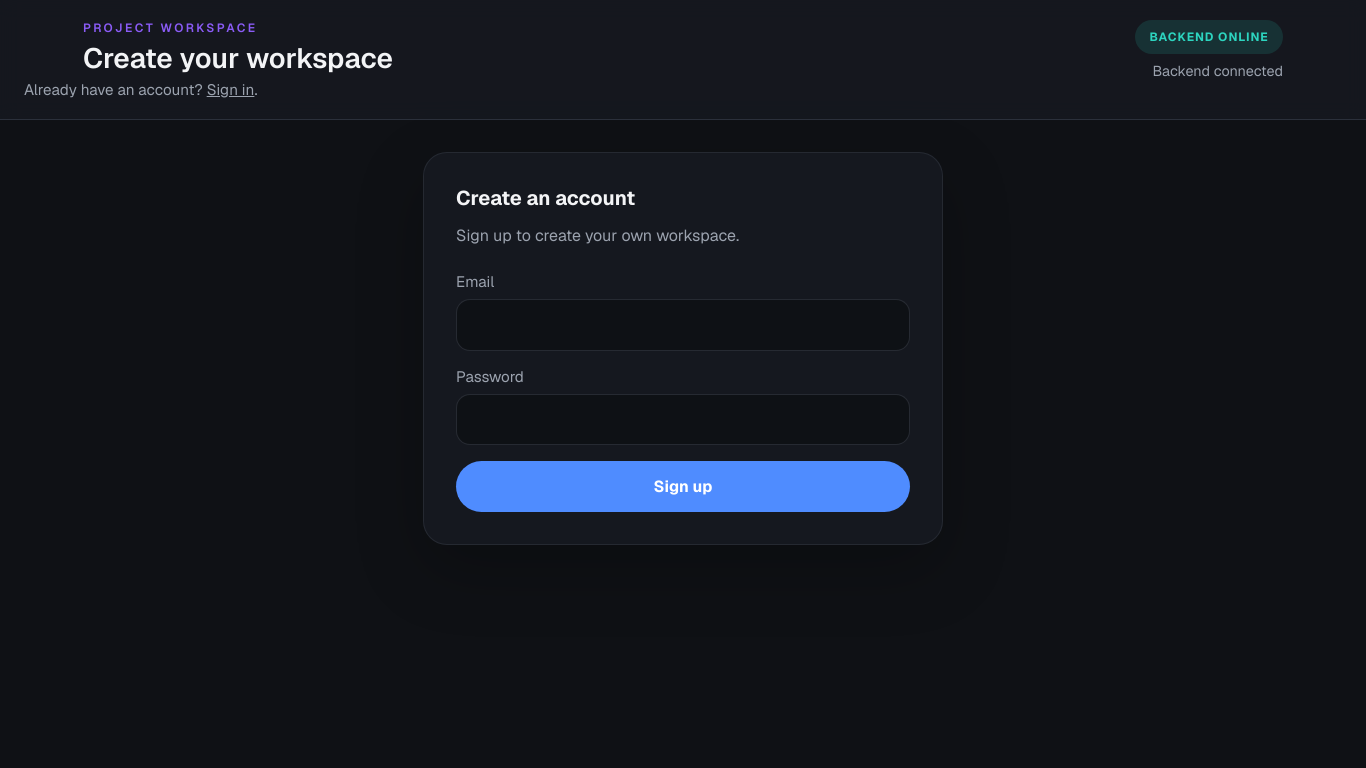
Test case: SignUpPage › shows an error message for a duplicate email
Expected: the text "Backend online" is shown, [1135,20,1283,54]
Type "taken@example.com" into the field labelled "Email" at {"x": 683, "y": 325}, box [456,299,910,351]
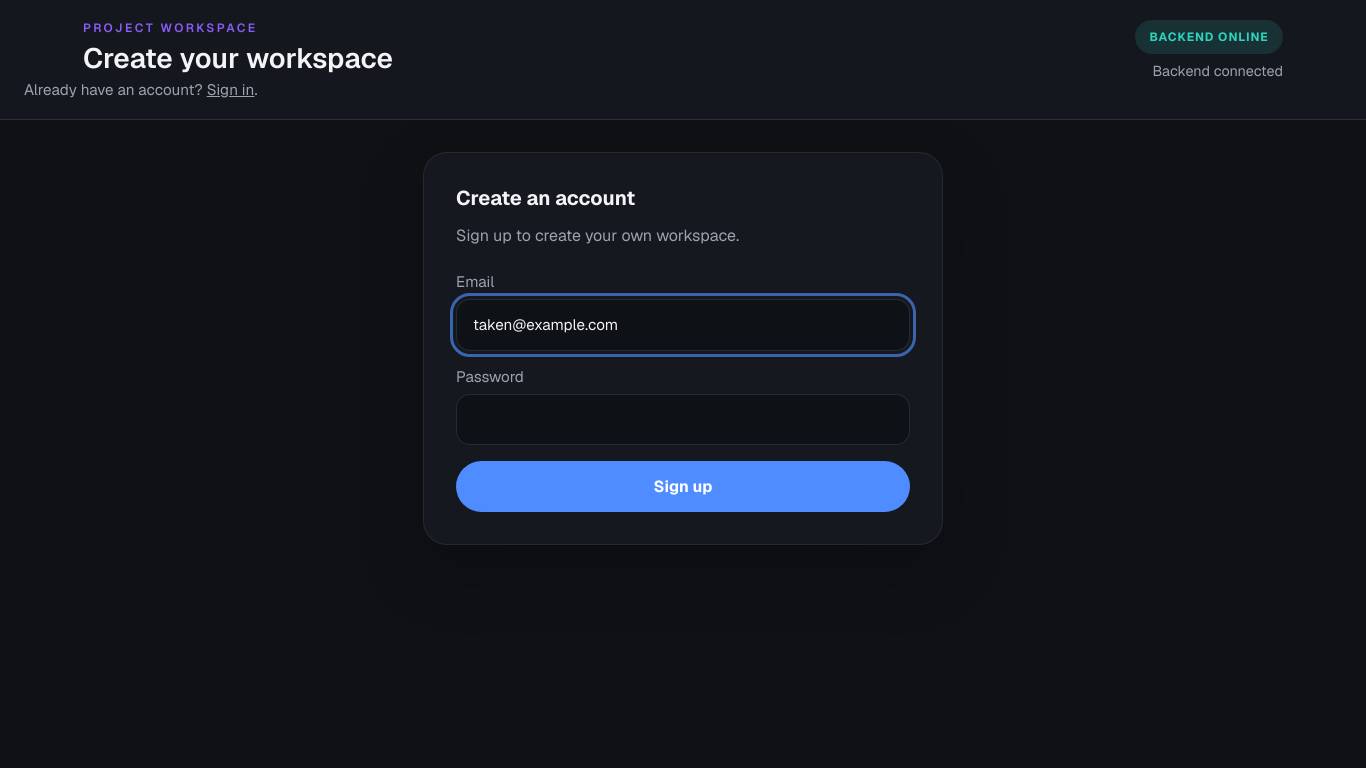
Type "password123" into the password field labelled "Password" at {"x": 683, "y": 419}, box [456,394,910,445]
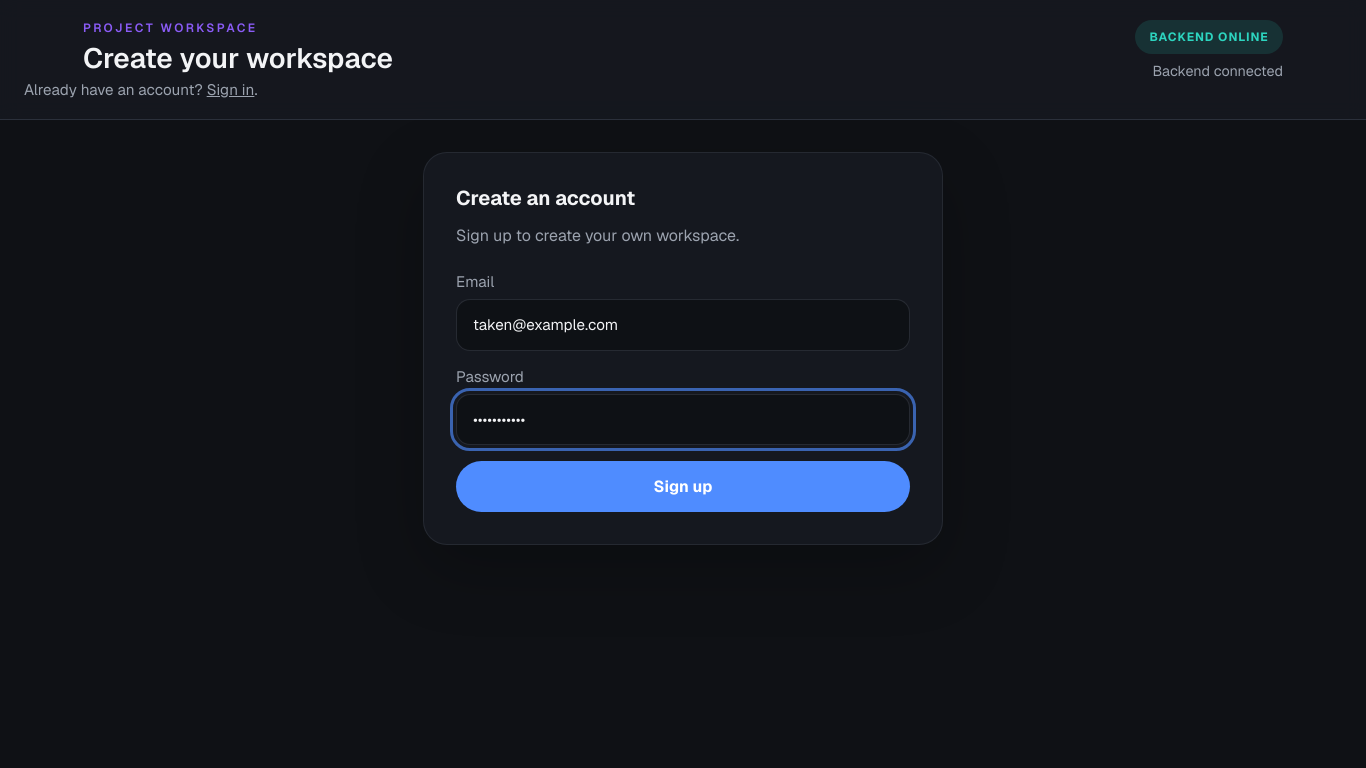
Click the button "Sign up" at {"x": 683, "y": 487}, box [456,461,910,512]
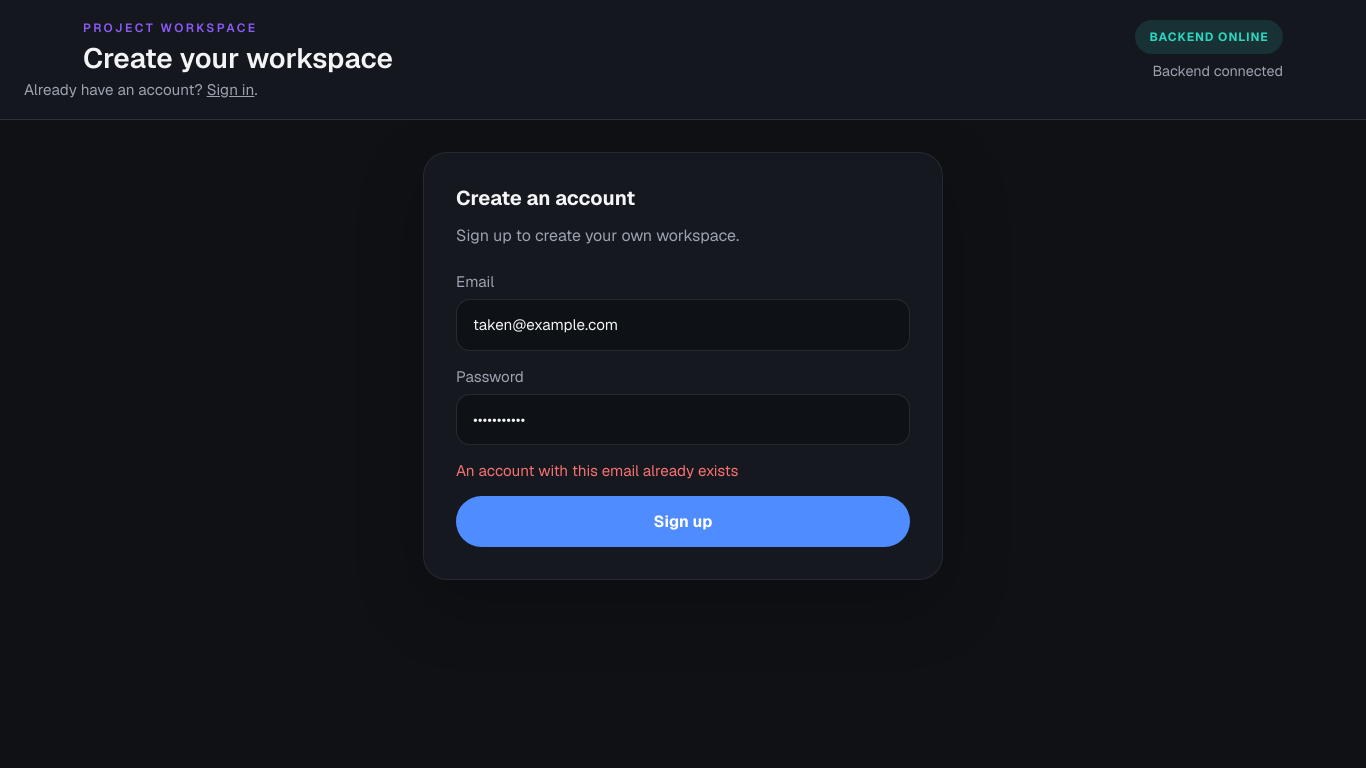
Expected: the text "An account with this email already exists" is shown, [456,461,738,480]
